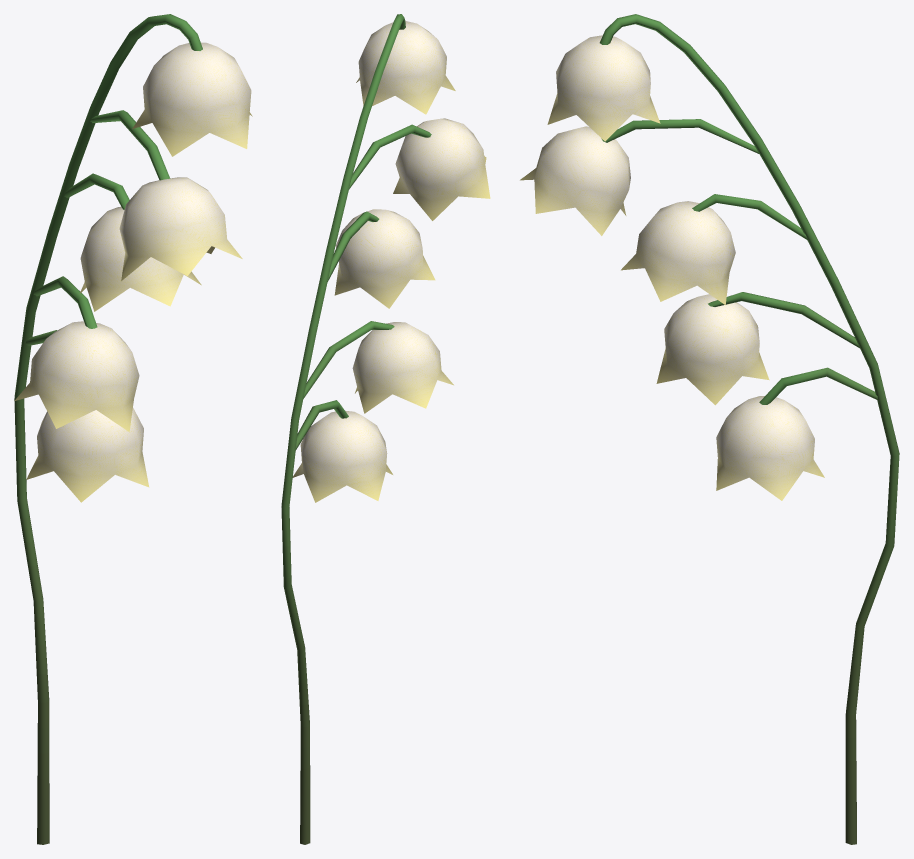
The model's file is Lily Of The Valley.fbx.
3 renders of one model, left to right at view 1: azimuth 30°, elevation 25°; view 2: azimuth 150°, elevation 25°; view 3: azimuth 270°, elevation 25°, orthographic. The views are drawn at different scales.
Parts seen in each view (by area): view 1: Sphere.004, BézierCurve; view 2: Sphere.004, BézierCurve; view 3: Sphere.004, BézierCurve.
Part boxes in pixels (x1,y1,x2,y2): Sphere.004: (14, 42, 252, 502); BézierCurve: (14, 14, 202, 844); Sphere.004: (292, 21, 490, 502); BézierCurve: (281, 14, 431, 844); Sphere.004: (520, 35, 824, 500); BézierCurve: (599, 14, 899, 844).
Bounding box in the file's own units: 336 × 1807 × 749.
